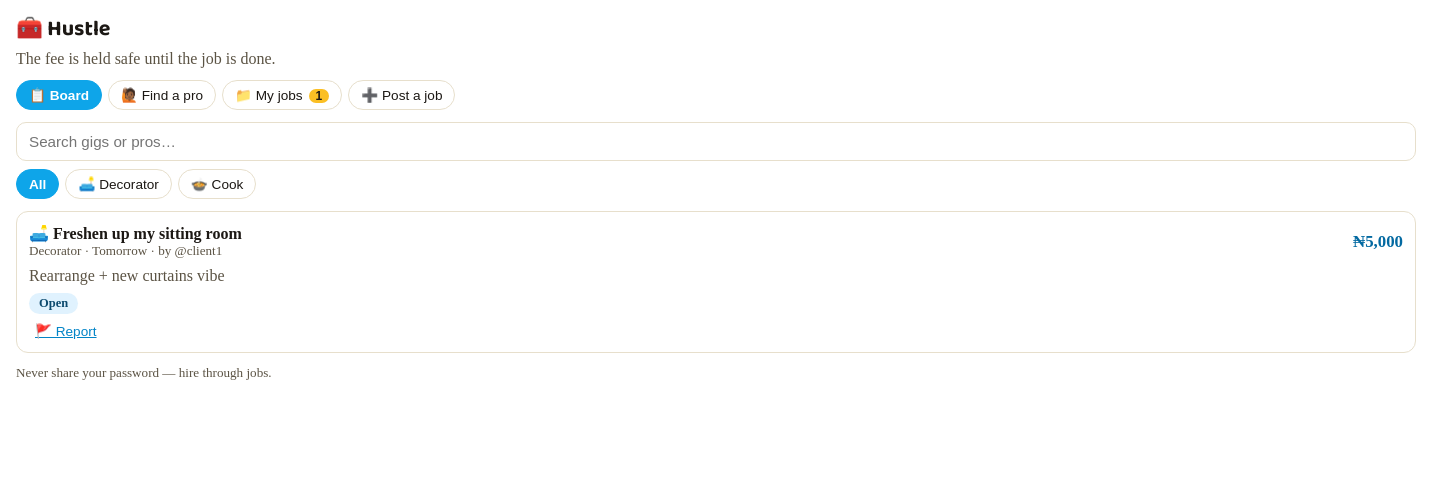
Test: HustleApp › hired gigs show the escrow-held badge and release flow
The width and height of the screenshot is (1433, 478).
Step 1. Click the tab "📁 My jobs1" → x=282, y=95, box [222,80,342,110]
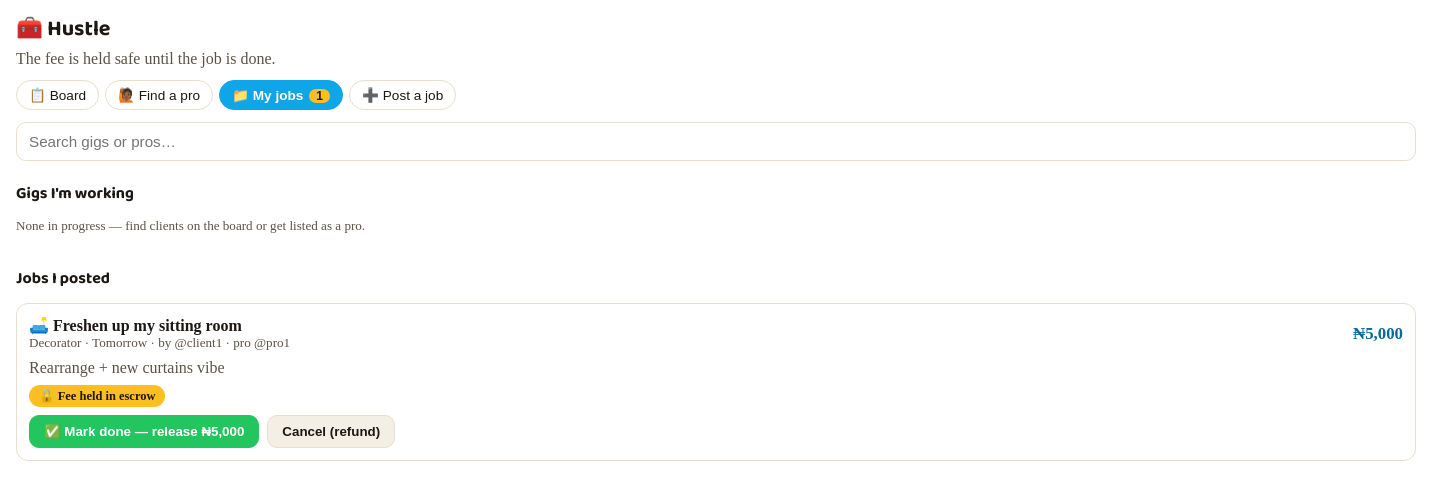
Now the text "🔒 Fee held in escrow" is shown, box [29,385,166,407]
Now the button "✅ Mark done — release ₦5,000" is shown, box [29,415,259,448]
